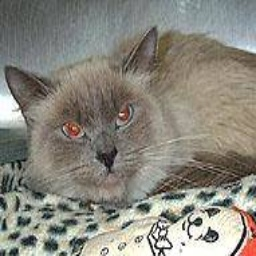cat: (9, 27, 256, 199)
